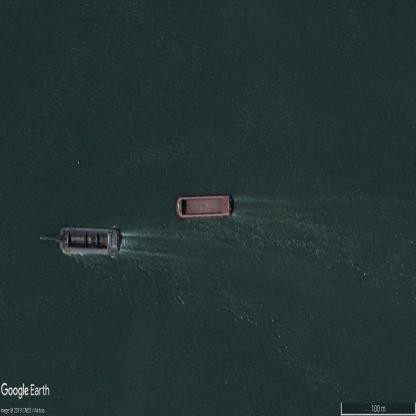ship: (41, 226, 124, 255), (176, 191, 235, 220)
